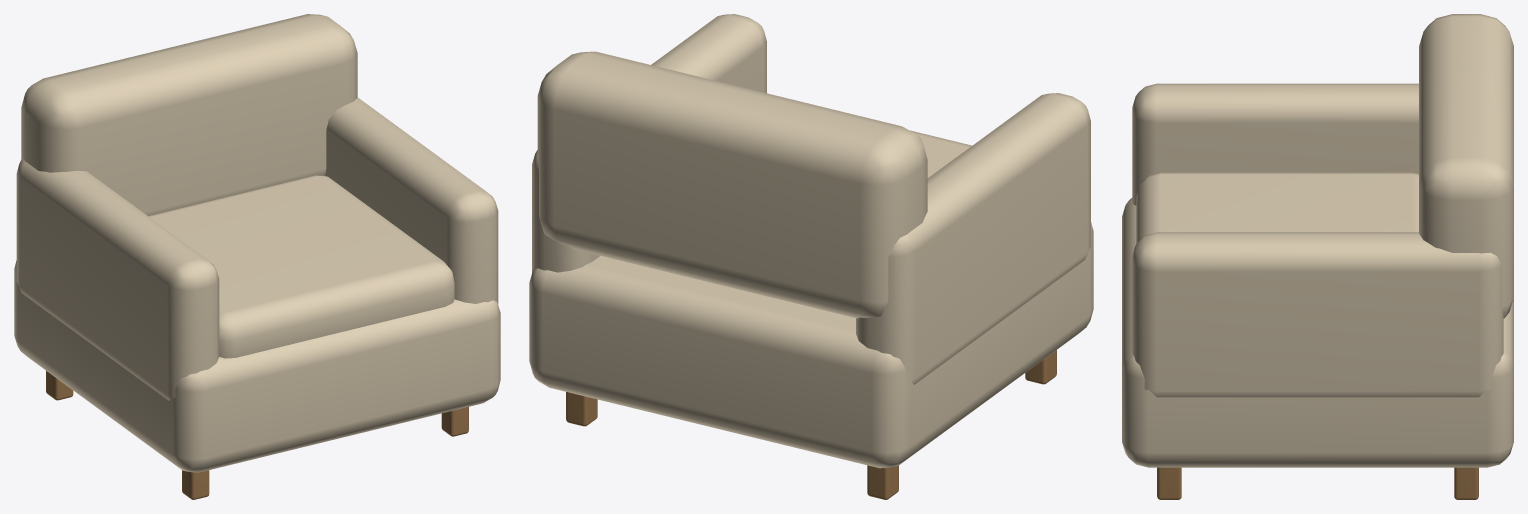
File: prod-1773061941304-t45v9.glb
3 views of the same model, side by side, from view 1: azimuth 30°, elevation 25°; view 2: azimuth 150°, elevation 25°; view 3: azimuth 270°, elevation 25° (orthographic). The views are drawn at different scales.
Visible parts, largest first — view 1: Sofa base.006, Sofa foot.024; view 2: Sofa base.006, Sofa foot.024; view 3: Sofa base.006, Sofa foot.024.
Boxes of the visible parts, box(x1,y1,x2,y2) form: Sofa base.006: box(14, 14, 500, 472); Sofa foot.024: box(46, 371, 468, 499); Sofa base.006: box(529, 14, 1093, 468); Sofa foot.024: box(566, 350, 1056, 499); Sofa base.006: box(1122, 14, 1513, 467); Sofa foot.024: box(1157, 467, 1478, 499).
Bounding box in the file's own units: 0.97 × 0.88 × 0.92.
